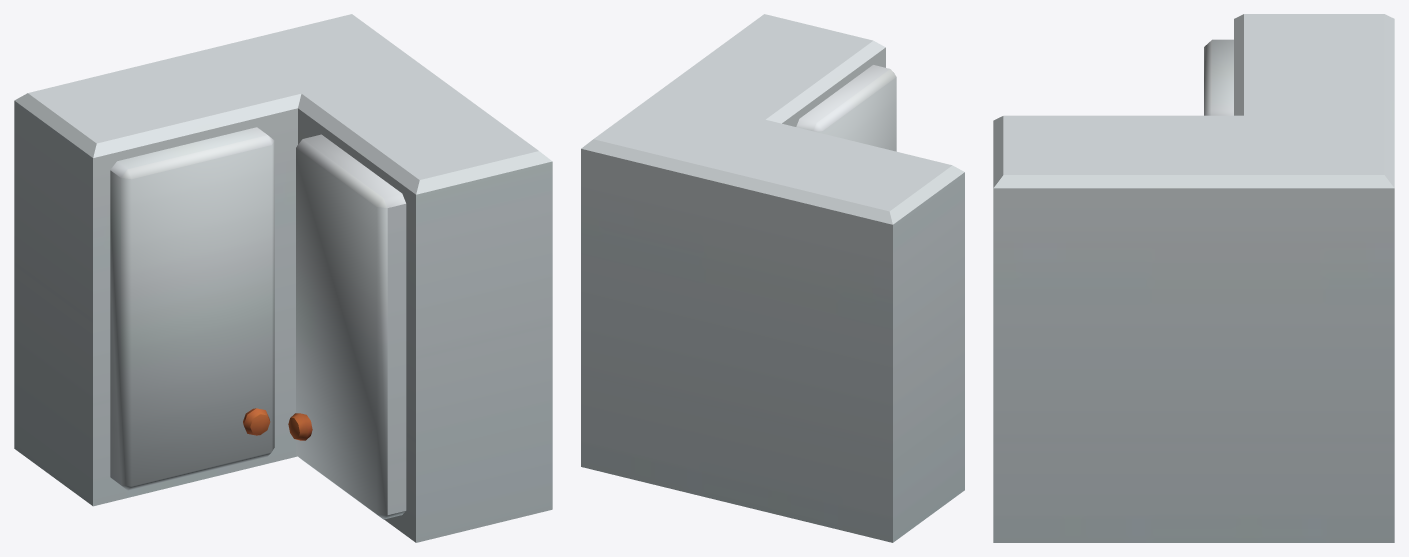
File: kitchencabinet-corner.glb
3 renders of one model, left to right at view 1: azimuth 30°, elevation 25°; view 2: azimuth 150°, elevation 25°; view 3: azimuth 270°, elevation 25°, orthographic. The views are drawn at different scales.
Visible parts, largest first — view 1: kitchencabinet_corner; view 2: kitchencabinet_corner; view 3: kitchencabinet_corner.
Boxes of the visible parts, bbox=[...] form: kitchencabinet_corner: bbox=[14, 14, 552, 542]; kitchencabinet_corner: bbox=[581, 14, 964, 542]; kitchencabinet_corner: bbox=[993, 14, 1394, 542].
Bounding box in the file's own units: 2 × 2 × 2.
1 material, 1 textured.
